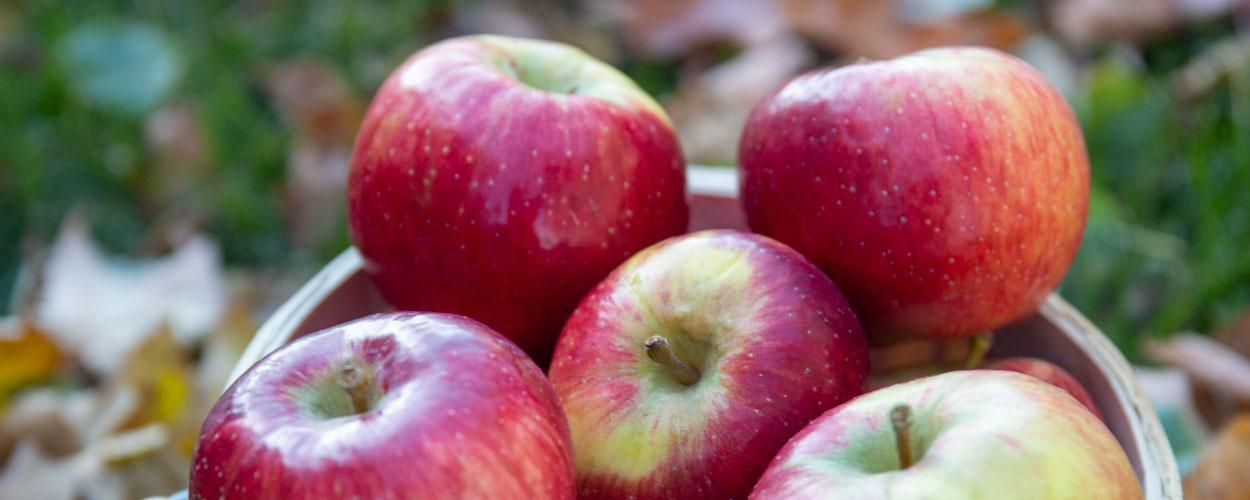apple: (345, 34, 688, 364), (742, 46, 1097, 348), (533, 230, 874, 499), (180, 303, 585, 499)
